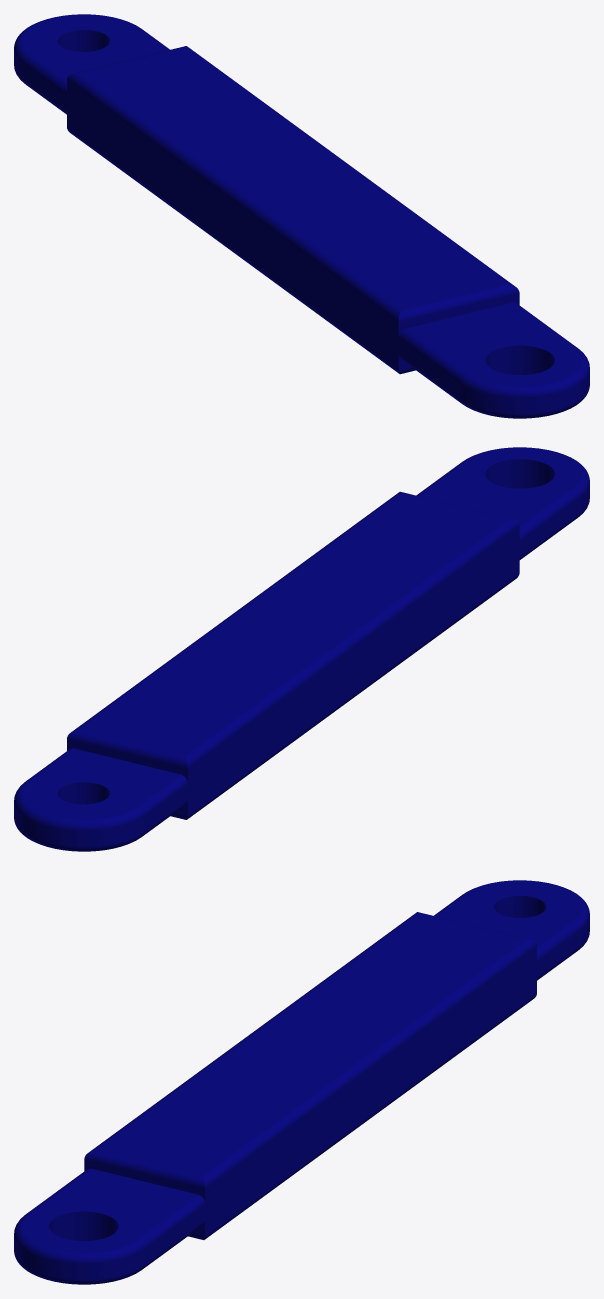
Rendered from link_1_render.glb.
3 views of the same model, one above another, from view 1: azimuth 30°, elevation 25°; view 2: azimuth 150°, elevation 25°; view 3: azimuth 330°, elevation 25° (orthographic).
Visible parts, largest first — view 1: NAUO1; view 2: NAUO1; view 3: NAUO1.
Boxes of the visible parts, x1,y1,x2,y2 form: NAUO1: (14, 14, 589, 418); NAUO1: (14, 447, 589, 851); NAUO1: (14, 880, 589, 1284).
Bounding box in the file's own units: 0.04 × 0.02 × 0.2899.
